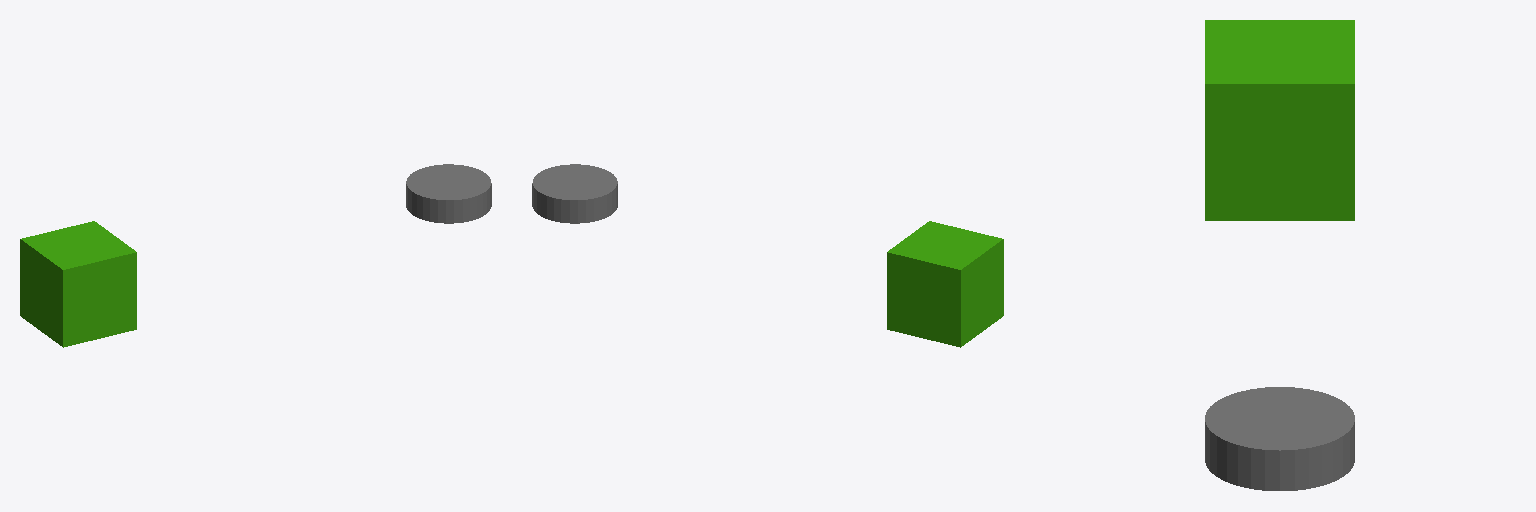
URDF robot description (simple_robot):
<?xml version="1.0" ?>
<robot name="simple_robot">
    
    <!-- Şekillere renk ayarı için material etiketi. -->
    
    <material name="red"> <!-- Zaten default tanımlı olan kırmızı ama ben gene de bunu da yazdım. -->
        <color rgba="1 0 0 1"/> <!-- a yani alpha değeri matlık manasına geliyor 1 mat oluyor. -->
    </material>
    
    <material name="blue">
        <color rgba="0 0 1 1"/> <!-- a yani alpha değeri matlık manasına geliyor 1 mat oluyor. -->
    </material>

    <material name="green">
        <color rgba="0 1 0 1"/> <!-- a yani alpha değeri matlık manasına geliyor 1 mat oluyor. -->
    </material>
    
    <material name="grey">
        <color rgba="0.5 0.5 0.5 1"/> 
    </material>

    <material name="random_color">
        <color rgba=".3 0.7 0.1 1"/> 
    </material>

    <link name="base_link">
        <visual>
            <geometry> 
                <box size="0.5 0.5 0.5"/> <!-- Sırayla x,y,z değerleri alıyor. --> <!-- Yazdığımız değerler metre cinsinden. -->
            </geometry>
            <origin xyz="0 0 0" rpy="0 0 0"/> <!-- Nesnenin başlangıç konumu (xyz) ve dönüşü açısını(rpy)(radyan cinsinden) belirtiyor. --> <!-- Şeklimin merkezi belirtmiş olduğum koordinatta olur.-->
            <material name="random_color" /> <!-- Oluşturmuş olduğum amterial etiketini çağırdım ve istediğim cismime uygulattım. Ve sondaki "/" ile açtığımız tagı kapatmış da olduk. -->
        </visual>
    </link>

    <!-- Yeni link-->
    <link name="second_link">
        <visual>
            <geometry>
                <cylinder radius="0.25" length="0.15"/>
            </geometry>
            <origin xyz="2 0 0" rpy="0 0 0"/> <!-- burada girdiğim koordinat değerleri cismimin koordinatlaro ; aşağıda girdiğim değerlerse TF'imin koordinatları-->
            <material name="grey"/>
        </visual>
    </link>

    <joint name="bazse_second_joint" type="fixed"> <!-- Linklerim arasında ilişki kurmamı sağlayan etiketim.--> <!--"http://wiki.ros.org/urdf/XML/joint" buradan bağlantı şekilleri (type) ile ilgili bilgileri öğrenebilirsin.-->
        <parent link="base_link"/>
        <child link="second_link"/>
        <origin xyz="0.5 0 0" rpy="0 0 0"/> <!-- xyz girdiğim değerin base koordinatını 000 kabul ederek olacağı konumdur. .-->
        <!-- Dikkatli incelersen xyz koordinat TF çubuklarını göreceksin.-->        
    </joint>

    <!--
    Anladığım kadarıyla mantık :
    base_link her zaman merkezde oluşturulur ve TF kaydırmaları için merkezi referans alarak <jonit> yazarsın. Diğer türlü origin içine yazdığın koordinat değerleri cismi hareket ettirir.
    -->
    <!--
    Not : Yazılan tüm uzunluk değerleri metre cinsinden.
    Not : Bazı bağlantı şekillerinde "axis" veriyoruz ve burada "axis="1 0 0"" demek yalnızca x ekseni etrafında dönmesine izin veriyorum demek. 
    -->
</robot>

--- Render facts (derived) ---
Views: 3 orthographic renders of the robot side by side, from view 1: azimuth 30°, elevation 25°; view 2: azimuth 150°, elevation 25°; view 3: azimuth 270°, elevation 25°.
Model simple_robot with 2 links and 1 joints (1 fixed), rooted at base_link, posed all joints at 0.
Links seen in each view (by area): view 1: base_link, second_link; view 2: base_link, second_link; view 3: base_link, second_link.
Link boxes in pixels (x1,y1,x2,y2): base_link: [20, 221, 136, 347]; second_link: [406, 164, 491, 223]; base_link: [887, 221, 1003, 347]; second_link: [532, 164, 617, 223]; base_link: [1205, 20, 1354, 220]; second_link: [1205, 387, 1354, 490].
Size in the robot's own frame: 3 by 0.5 by 0.5 metres.
Geometry: primitives only (box / cylinder / sphere), no mesh files.
